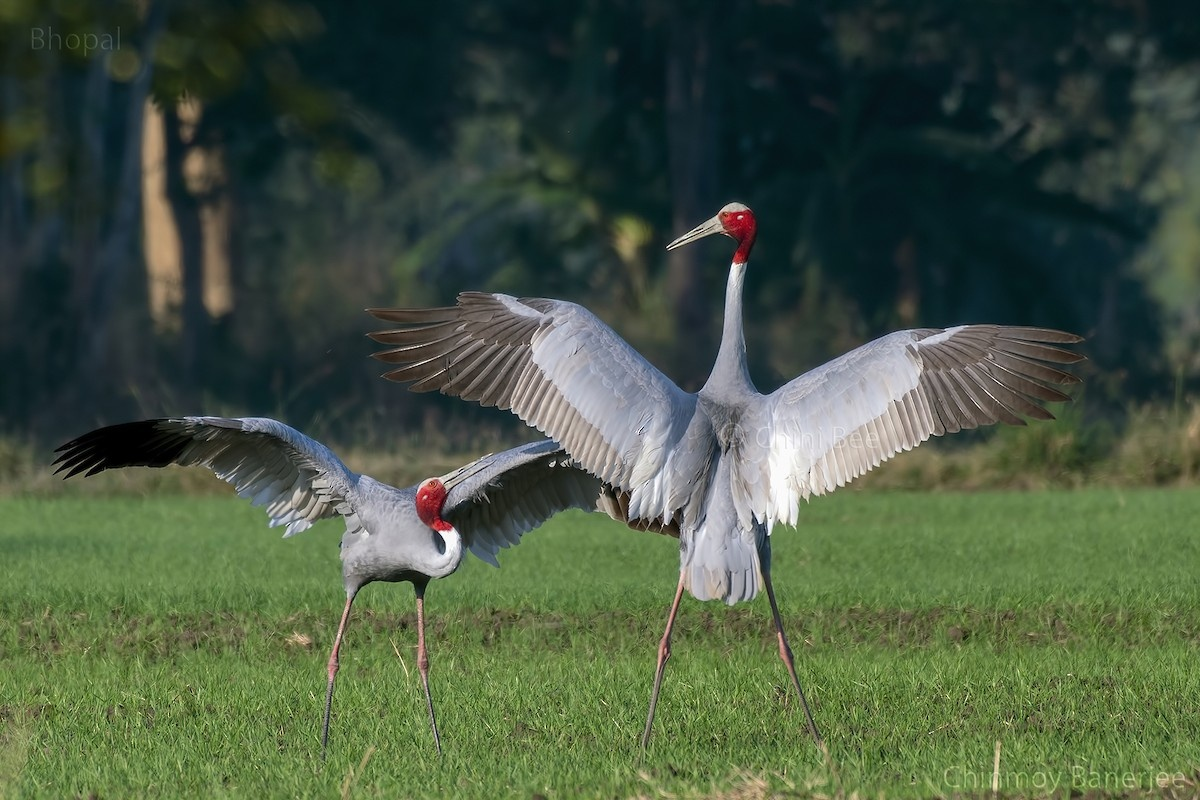crane: (375, 172, 1109, 729), (54, 390, 565, 698)
